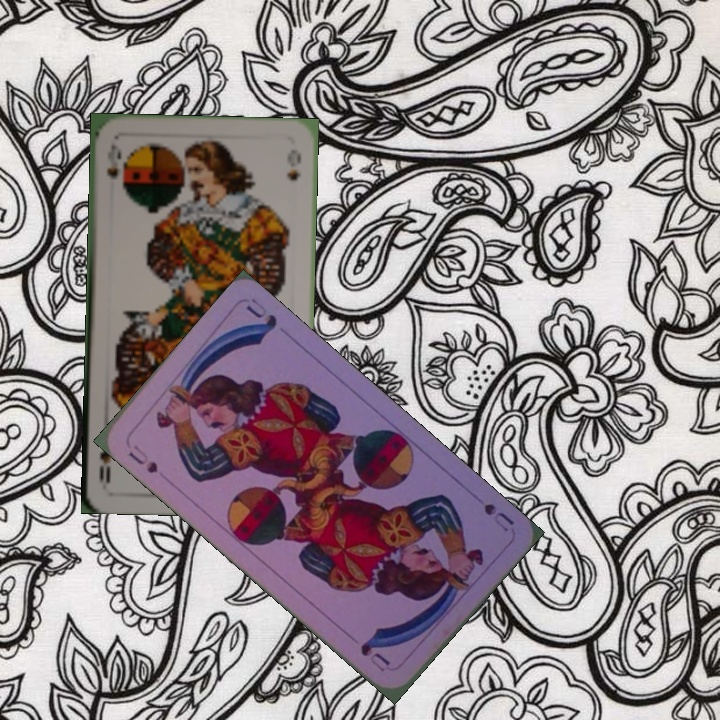SO: (103, 140, 124, 181)
SU: (479, 499, 518, 535), (124, 448, 161, 476)
